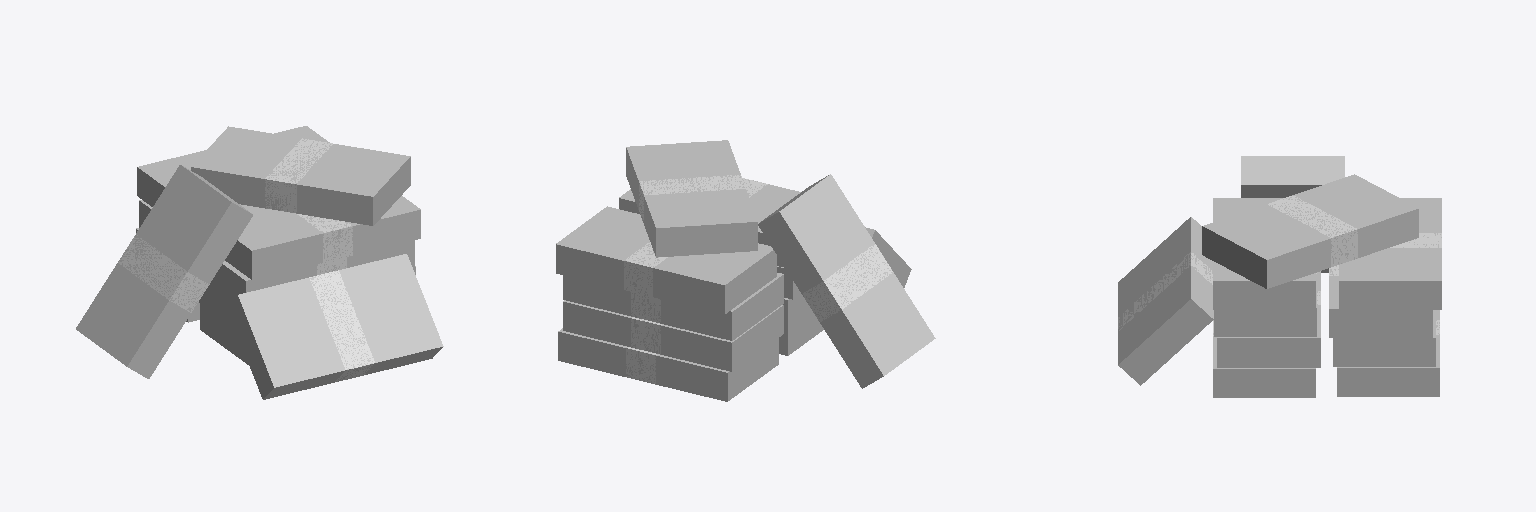
The model's file is money.obj.
3 renders of one model, left to right at view 1: azimuth 30°, elevation 25°; view 2: azimuth 150°, elevation 25°; view 3: azimuth 270°, elevation 25°, orthographic.
Visible parts, largest first — view 1: group_1.005_ID71, group_1.003_ID51, group_10.005_ID710, group_10.003_ID690, group_11.005_ID781, group_11.003_ID761, group_11.002_ID751, group_1_ID5, group_10_ID660, group_4.002_ID254, group_11_ID731, group_10.002_ID680 (+13 smaller); view 2: group_10.005_ID710, group_10.003_ID690, group_3.002_ID183, group_11.005_ID781, group_7.002_ID467, group_9.002_ID609, group_11.003_ID761, group_11.001_ID741, group_2.002_ID112, group_10_ID660, group_3.003_ID193, group_3.005_ID213 (+15 smaller); view 3: group_11.002_ID751, group_1.001_ID26, group_11.005_ID781, group_11.003_ID761, group_6.001_ID386, group_3.001_ID173, group_7.001_ID457, group_8.001_ID528, group_9.001_ID599, group_3.003_ID193, group_10.002_ID680, group_2.001_ID102 (+10 smaller).
Boxes of the visible parts, <box> form: group_1.005_ID71: <box>238,278,344,387</box>; group_1.003_ID51: <box>339,254,443,362</box>; group_10.005_ID710: <box>136,165,231,271</box>; group_10.003_ID690: <box>76,263,168,366</box>; group_11.005_ID781: <box>297,144,410,196</box>; group_11.003_ID761: <box>192,126,301,178</box>; group_11.002_ID751: <box>297,157,410,225</box>; group_1_ID5: <box>309,270,374,381</box>; group_10_ID660: <box>118,234,209,312</box>; group_4.002_ID254: <box>225,234,322,279</box>; group_11_ID731: <box>265,138,332,213</box>; group_10.002_ID680: <box>183,166,252,283</box>; group_10.005_ID710: <box>779,174,874,280</box>; group_10.003_ID690: <box>842,272,935,375</box>; group_3.002_ID183: <box>653,250,776,314</box>; group_11.005_ID781: <box>626,140,740,180</box>; group_7.002_ID467: <box>661,305,783,371</box>; group_9.002_ID609: <box>656,338,778,401</box>; group_11.003_ID761: <box>644,189,757,227</box>; group_11.001_ID741: <box>644,197,757,257</box>; group_2.002_ID112: <box>661,275,783,340</box>; group_10_ID660: <box>802,244,892,321</box>; group_3.003_ID193: <box>556,206,649,260</box>; group_3.005_ID213: <box>654,243,772,284</box>; group_11.002_ID751: <box>1202,226,1330,288</box>; group_1.001_ID26: <box>1118,266,1213,385</box>; group_11.005_ID781: <box>1203,204,1330,259</box>; group_11.003_ID761: <box>1294,174,1418,228</box>; group_6.001_ID386: <box>1217,338,1320,367</box>; group_3.001_ID173: <box>1339,281,1441,309</box>; group_7.001_ID457: <box>1333,338,1435,366</box>; group_8.001_ID528: <box>1213,369,1315,397</box>; group_9.001_ID599: <box>1337,368,1439,396</box>; group_3.003_ID193: <box>1339,248,1441,280</box>; group_10.002_ID680: <box>1241,156,1344,184</box>; group_2.001_ID102: <box>1329,309,1432,337</box>.
Size of the model in its own units: 3.5 by 1.78 by 3.31.